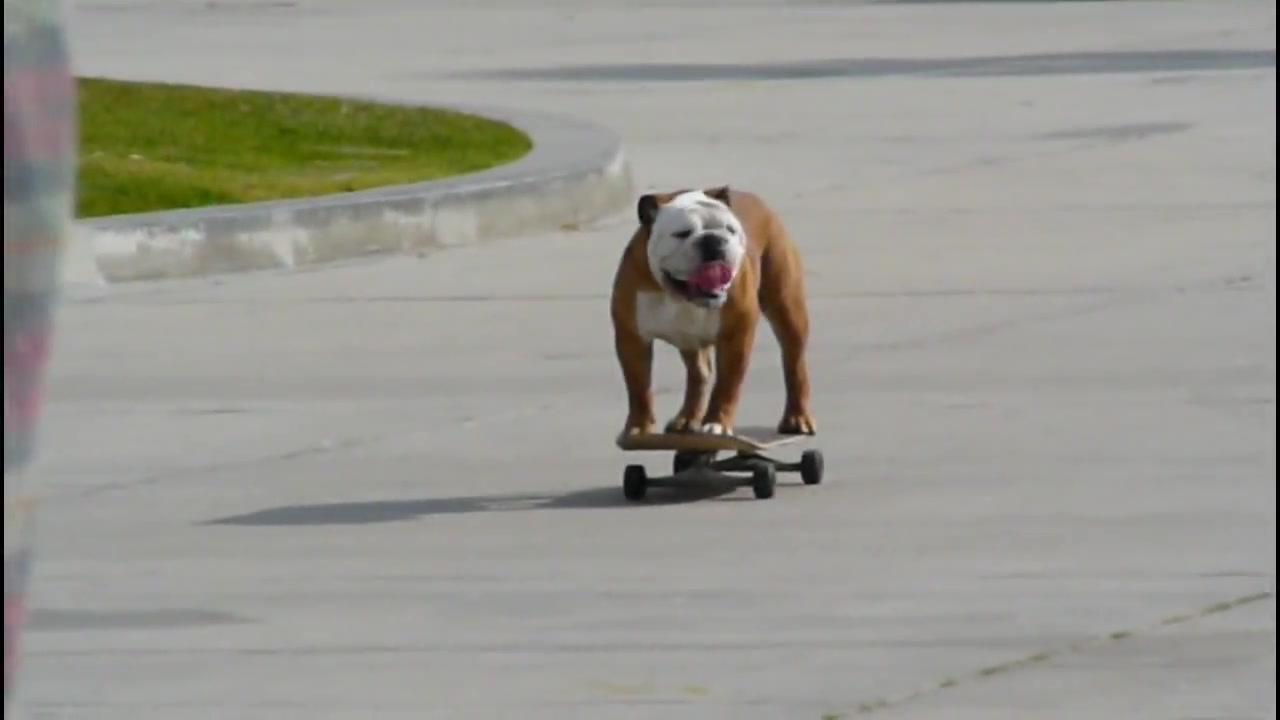dog: (609, 187, 816, 442)
